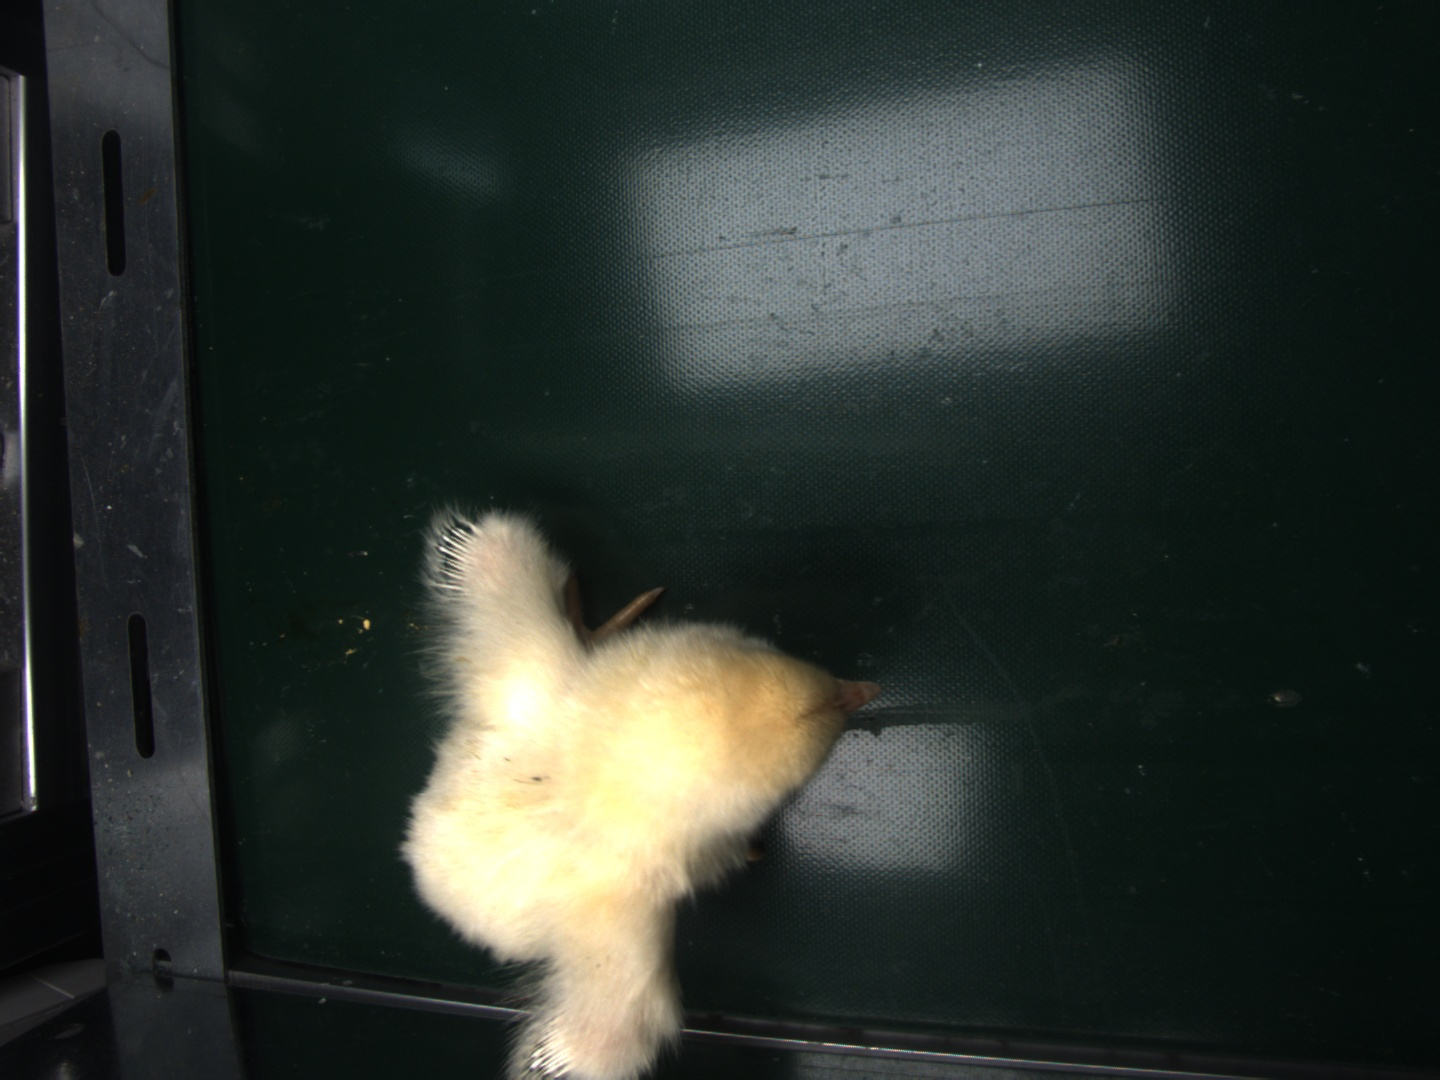male: (437, 512, 483, 598)
